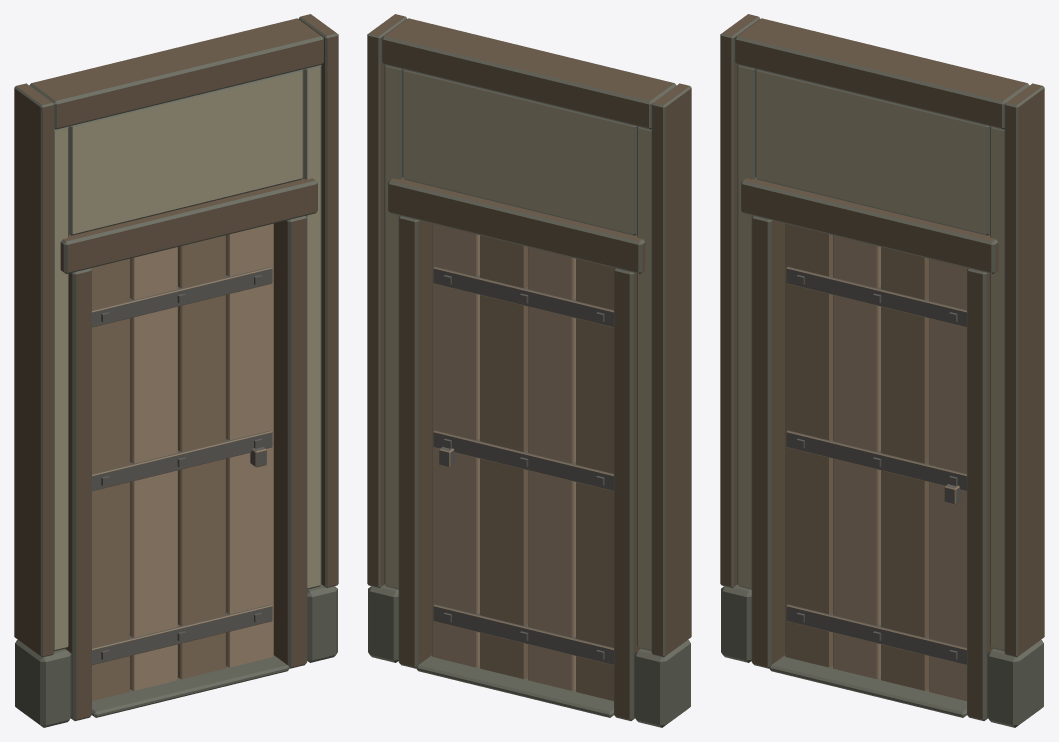
Rendered from door_iron.glb.
3 renders of one model, left to right at view 1: azimuth 30°, elevation 25°; view 2: azimuth 150°, elevation 25°; view 3: azimuth 330°, elevation 25°, orthographic.
Visible parts, largest first — view 1: Door_Iron_Frame, Door_Iron_L; view 2: Door_Iron_Frame, Door_Iron_L; view 3: Door_Iron_Frame, Door_Iron_L.
Boxes of the visible parts, x1,y1,x2,y2 form: Door_Iron_Frame: (14,14,338,727); Door_Iron_L: (91,223,273,700); Door_Iron_Frame: (367,14,691,727); Door_Iron_L: (432,223,614,700); Door_Iron_Frame: (720,14,1044,727); Door_Iron_L: (785,223,967,700).
Bounding box in the file's own units: 1.52 × 3.05 × 0.29.
